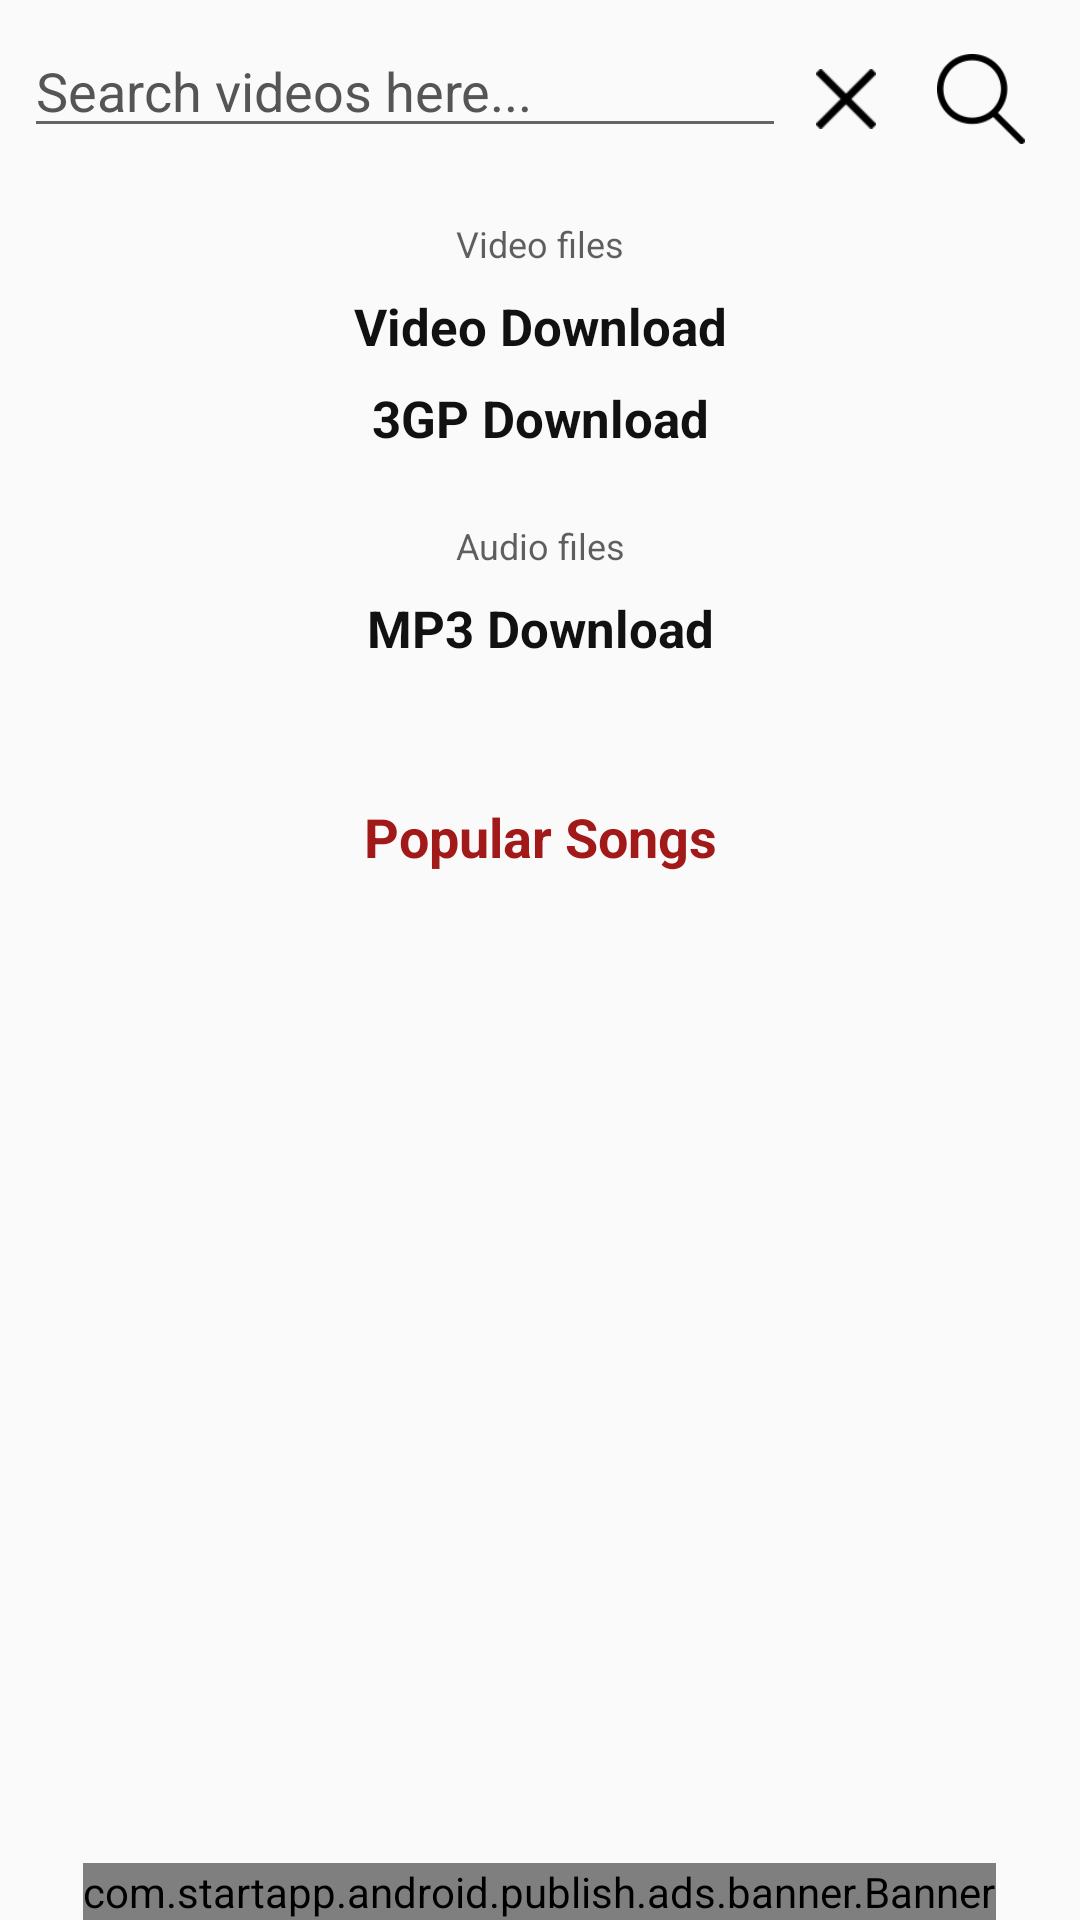

Named icons in this screenshot (1080*1920) and their centers, (x=x, y=y):
close: (x=846, y=99)
